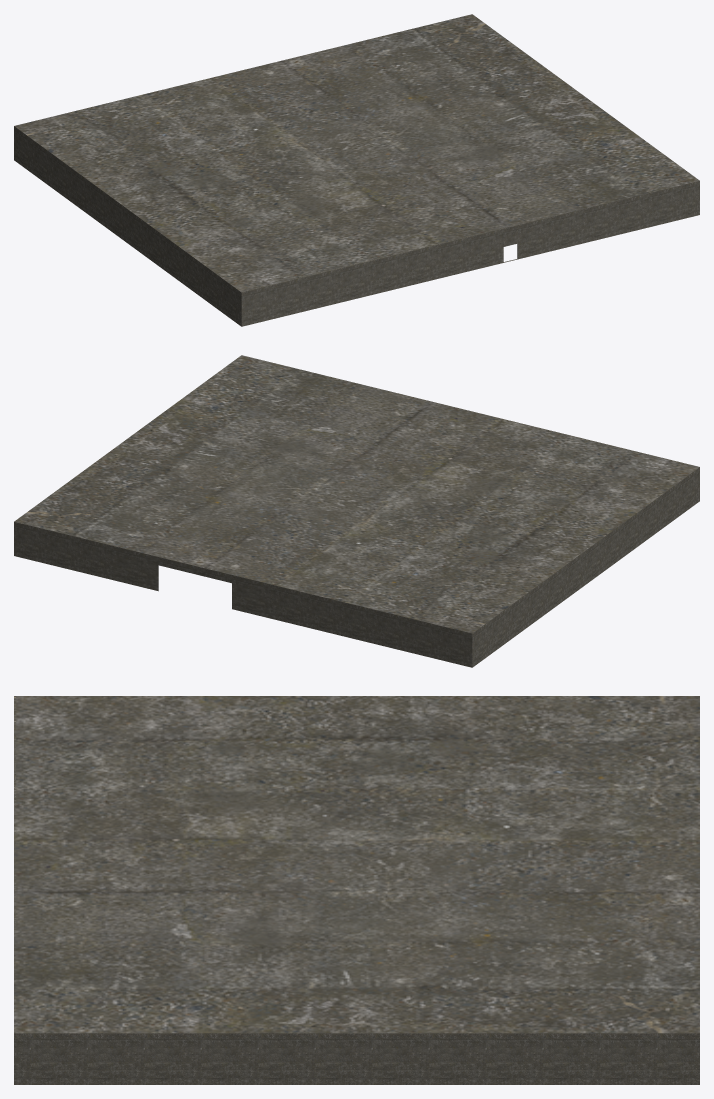
File: Hospital Exterior.fbx
3 renders of one model, top to bottom at view 1: azimuth 30°, elevation 25°; view 2: azimuth 150°, elevation 25°; view 3: azimuth 270°, elevation 25°, orthographic. The views are drawn at different scales.
Visible parts, largest first — view 1: Plane.003, Plane.002; view 2: Plane.003, Plane.002; view 3: Plane.003, Plane.002.
Part boxes in pixels (x1,y1,x2,y2): Plane.003: [14, 14, 699, 291]; Plane.002: [14, 126, 699, 326]; Plane.003: [14, 355, 698, 633]; Plane.002: [14, 355, 699, 667]; Plane.003: [14, 696, 699, 1033]; Plane.002: [14, 696, 699, 1084].
Bounding box in the file's own units: 9359 × 669 × 8049.
1 material, 1 textured.
